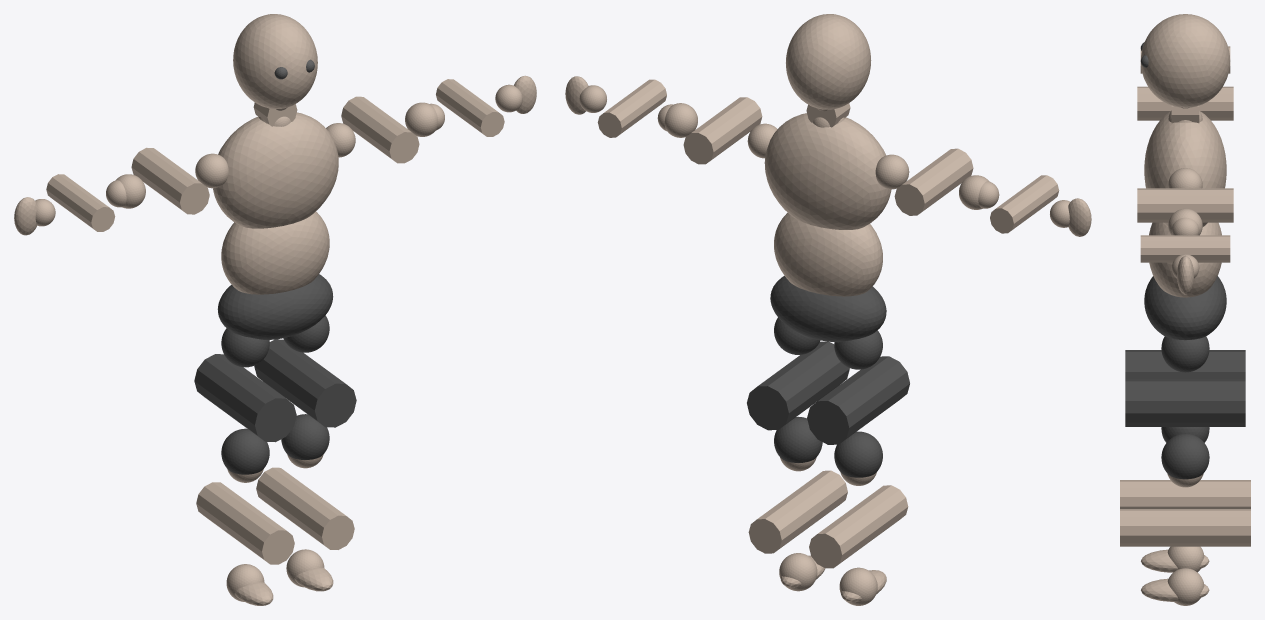
Rendered from human_tpose.glb.
3 renders of one model, left to right at view 1: azimuth 30°, elevation 25°; view 2: azimuth 150°, elevation 25°; view 3: azimuth 270°, elevation 25°, orthographic.
Visible parts, largest first — view 1: geometry_0; view 2: geometry_0; view 3: geometry_0.
Boxes of the visible parts, x1,y1,x2,y2 form: geometry_0: (14, 14, 536, 605); geometry_0: (565, 14, 1091, 605); geometry_0: (1120, 14, 1250, 605).
Size of the model in its own units: 1.74 by 1.83 by 0.38.
